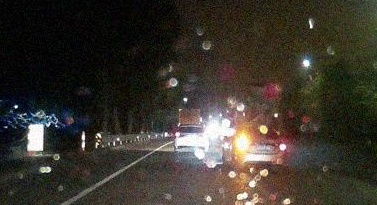L_light: (235, 139, 252, 145), (175, 133, 184, 137)
R_light: (272, 142, 286, 149), (197, 133, 206, 137)
T_light: (255, 126, 266, 129), (190, 125, 196, 127)
night-left: (234, 125, 287, 173)
night-no: (175, 124, 208, 154)
